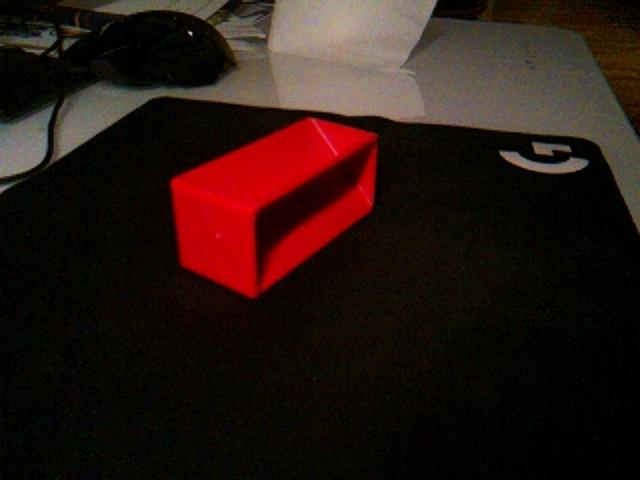red: (168, 115, 380, 300)
